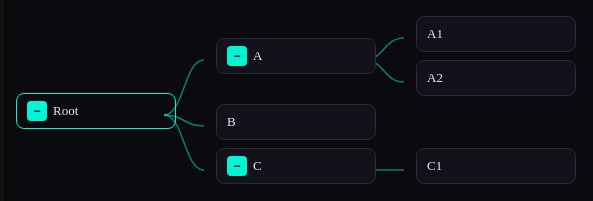
it: TkxMindMap › collapses a subtree via the toggle button and hides descendants
This screenshot has width=593, height=201.
Click the button with test id "mindmap-toggle-a": click(237, 56) [227,46,247,66]
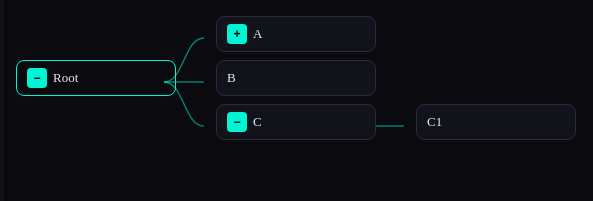
Check: the list item with test id "mindmap-node-c1" is shown, box [416,104,576,140]
Check: the list item with test id "mindmap-node-a1" is gone
Check: the list item with test id "mindmap-node-a2" is gone
